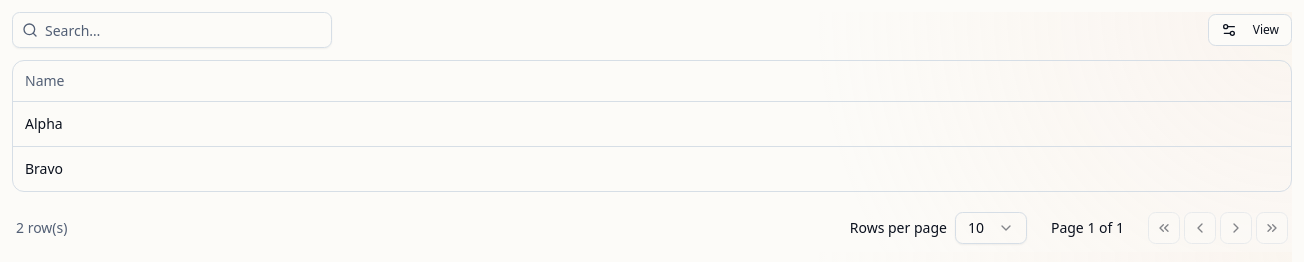
Test: DataTable › filters rows via global search
Type "Alpha" into the field named "Search table" at (172, 30), box left=12, top=12, right=332, bottom=48
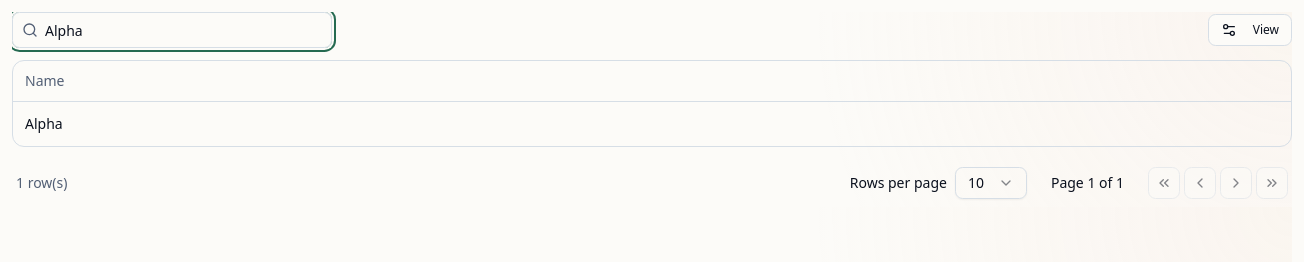
Expected: the text "Alpha" is shown, left=13, top=101, right=1291, bottom=146
Expected: the text "Bravo" is gone
